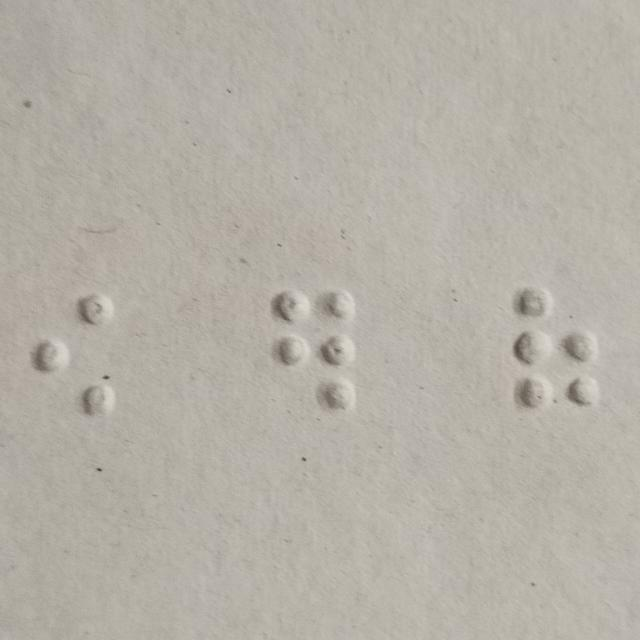one_cell_part_word_aw: (35, 293, 115, 418)
one_cell_part_word_er: (274, 288, 354, 414)
one_cell_part_word_han: (515, 286, 595, 412)
